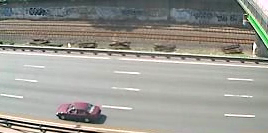car: (54, 101, 106, 126)
